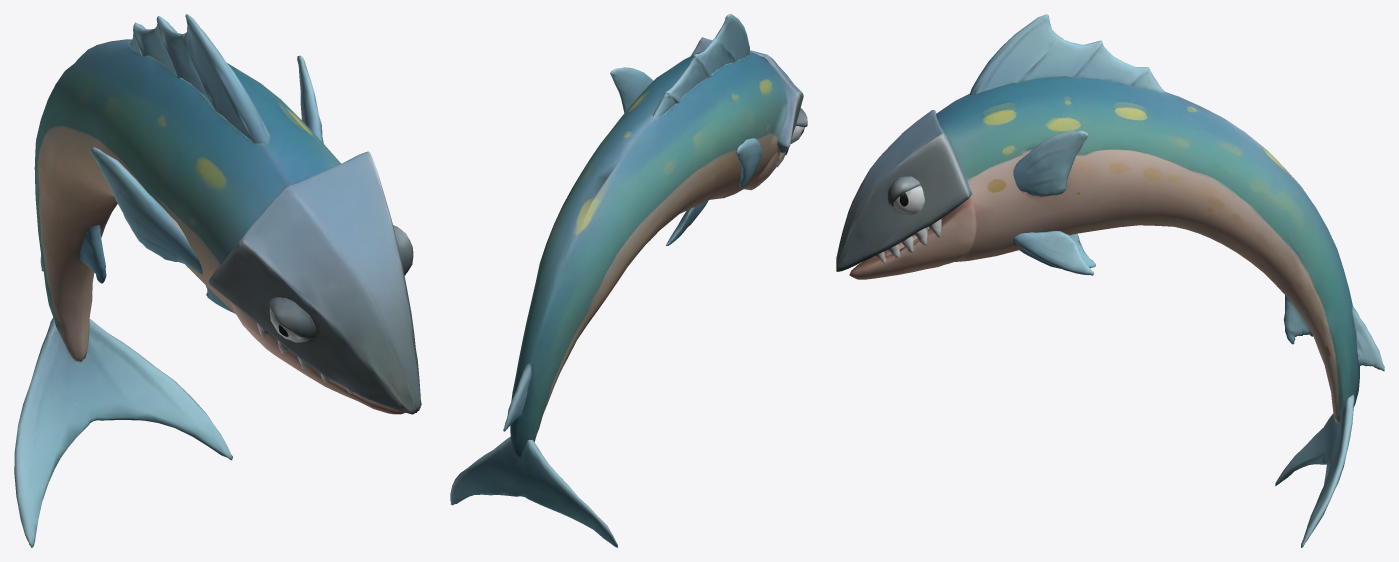
The model's file is assourdine.glb.
The picture shows the model from 3 angles, left to right: view 1: azimuth 30°, elevation 25°; view 2: azimuth 150°, elevation 25°; view 3: azimuth 270°, elevation 25°; orthographic projection. The views are drawn at different scales.
Parts seen in each view (by area): view 1: tripo_node_4ca957b8-6099-4f85-967f-cd6bf19ce2b4; view 2: tripo_node_4ca957b8-6099-4f85-967f-cd6bf19ce2b4; view 3: tripo_node_4ca957b8-6099-4f85-967f-cd6bf19ce2b4.
Part boxes in pixels (x1=…): tripo_node_4ca957b8-6099-4f85-967f-cd6bf19ce2b4: x1=14, y1=14, x2=421, y2=547; tripo_node_4ca957b8-6099-4f85-967f-cd6bf19ce2b4: x1=450, y1=14, x2=807, y2=547; tripo_node_4ca957b8-6099-4f85-967f-cd6bf19ce2b4: x1=836, y1=14, x2=1384, y2=547.
Size of the model in its own units: 0.1118 by 0.25 by 0.2634.
1 material, 1 textured.
